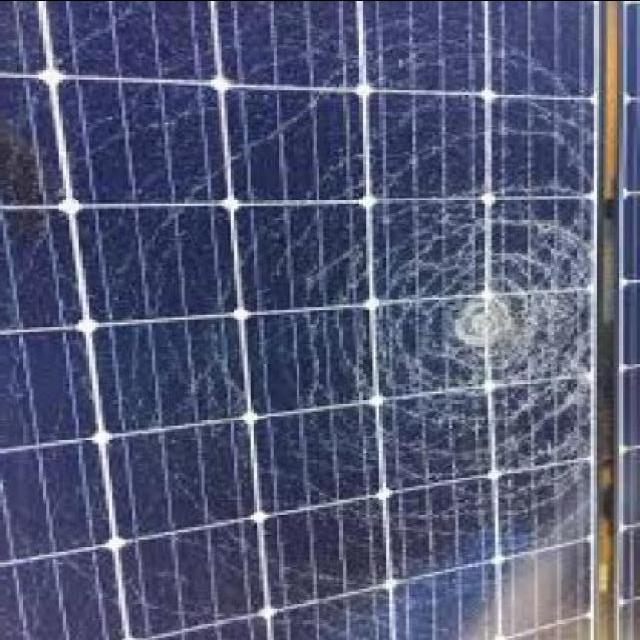cracked: (12, 0, 592, 637)
